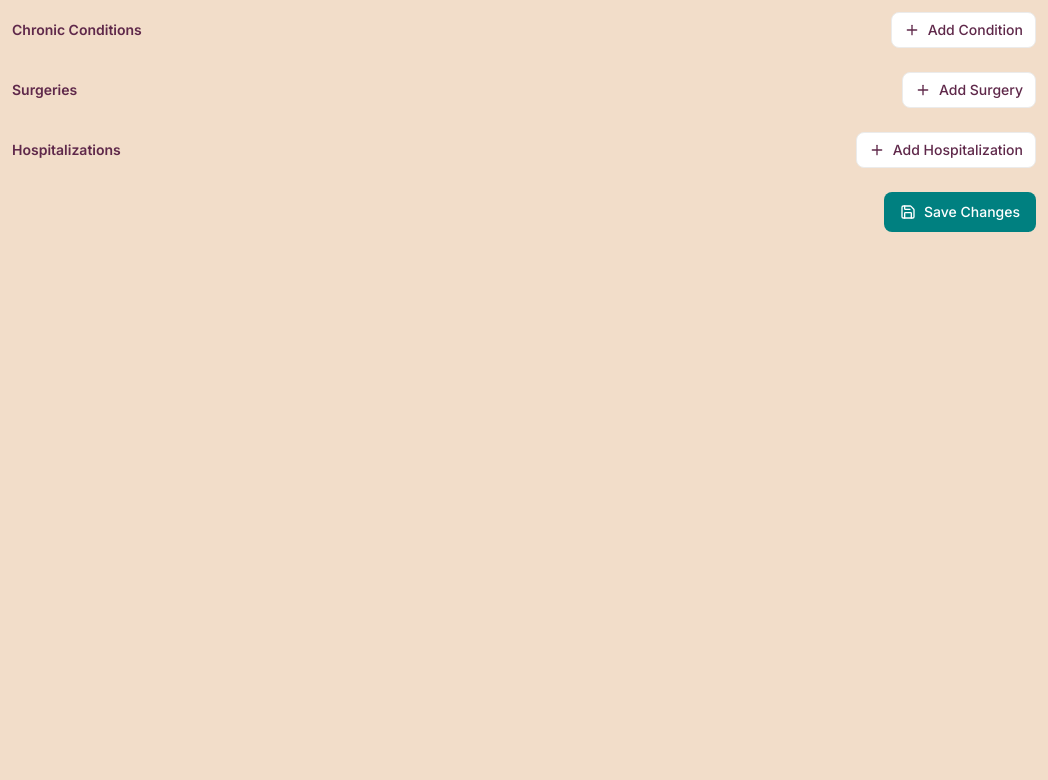
Test case: MedicalHistoryForm › Chronic Conditions › should add a new chronic condition
Click the button "Add Condition" at (963, 30), box x1=891 y1=12 x2=1036 y2=48
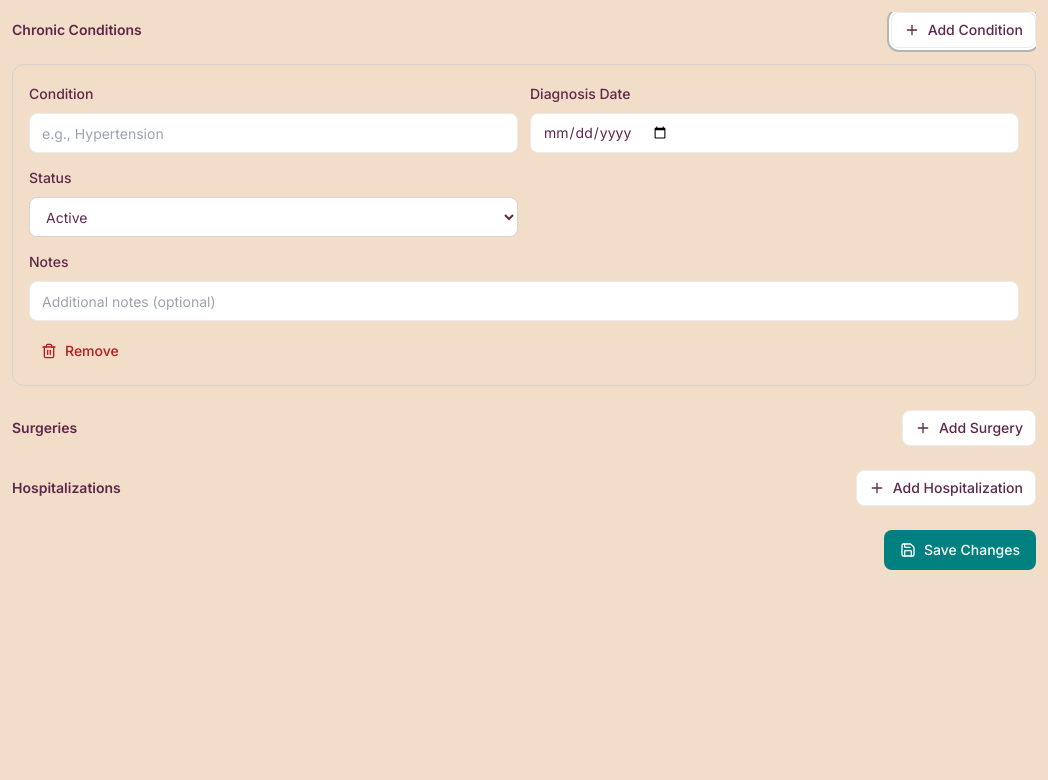
Check: the field with placeholder "e.g., Hypertension" is shown, box x1=29 y1=113 x2=518 y2=153
Check: the dropdown is shown, box x1=29 y1=197 x2=518 y2=237
